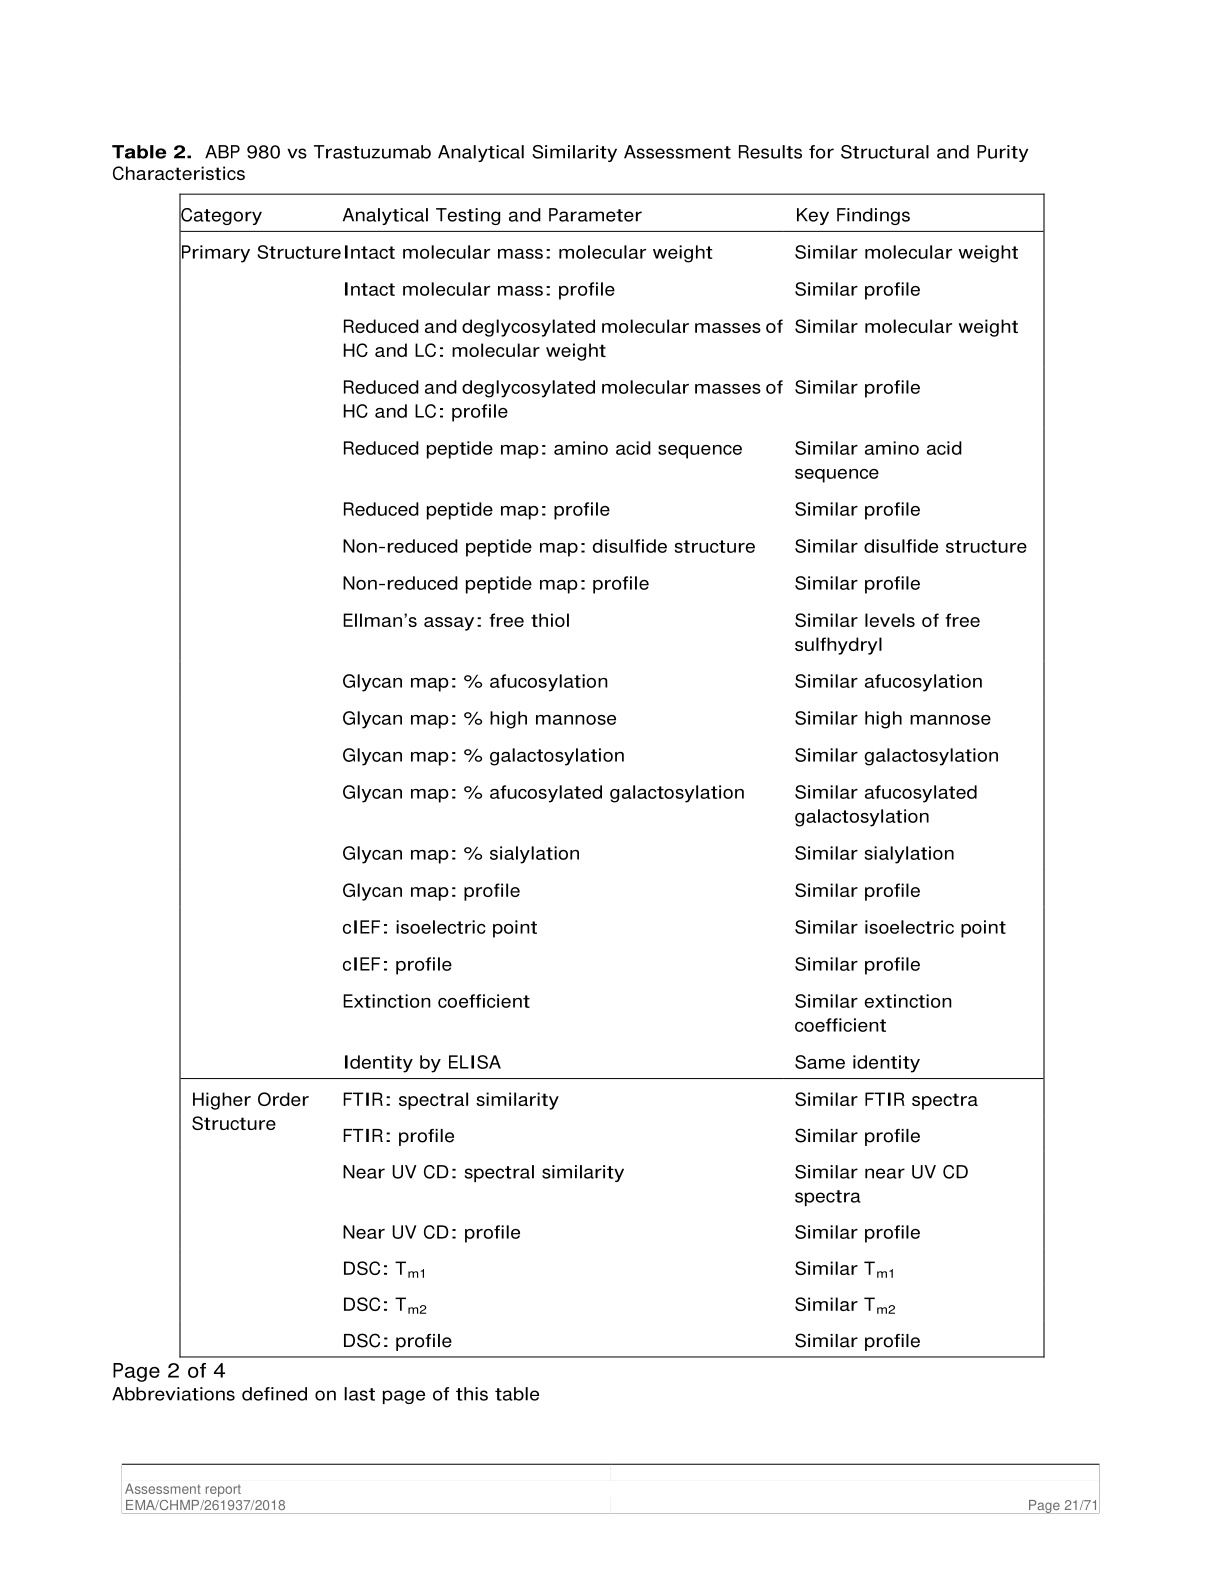partial_lined_merged_cells: (177, 188, 1048, 1360)
